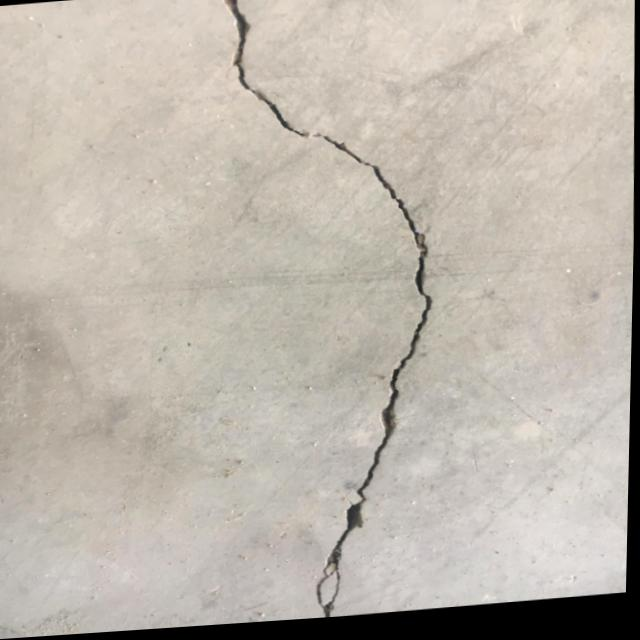Crack: (191, 0, 433, 307), (306, 287, 436, 623)
